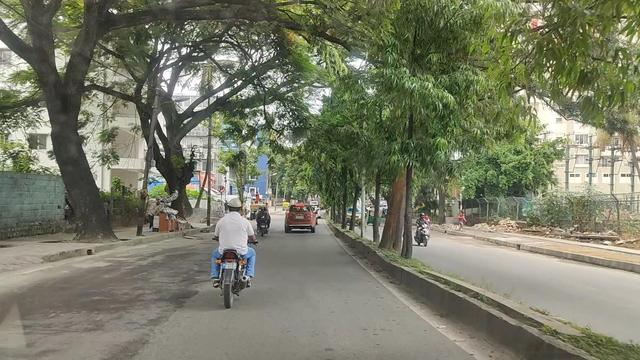LMV: (218, 197, 251, 305), (287, 203, 313, 234)
RoadDamages: (163, 278, 202, 312)
